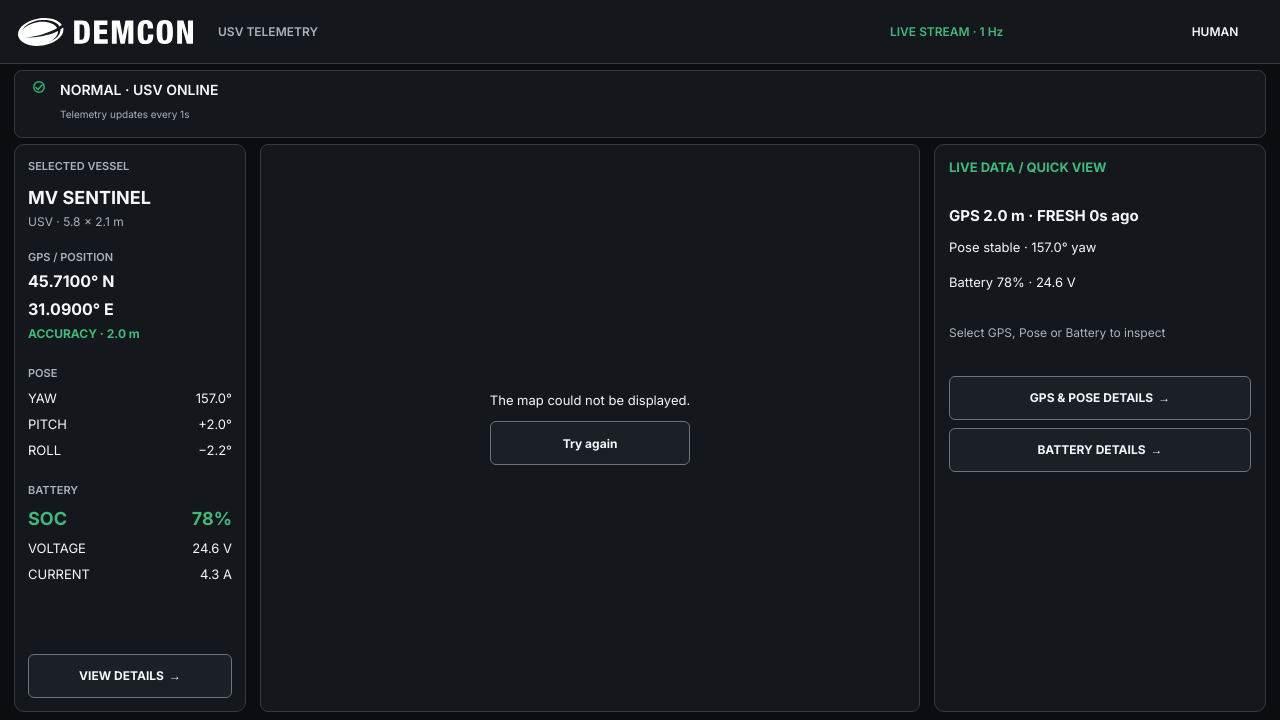
Test: USVMonitoring map failure isolation › keeps every other panel and the live telemetry working when the map fails
This screenshot has width=1280, height=720.
Check: the message "The map could not be displayed. Try again" is shown, box [490, 392, 690, 465]
Check: the heading "NORMAL · USV ONLINE" is shown, box [60, 81, 218, 98]
Select "BATTERY CRITICAL" in the dropdown named "Telemetry mode" at (1005, 32), box [890, 23, 1120, 40]
Wait 1000 ms
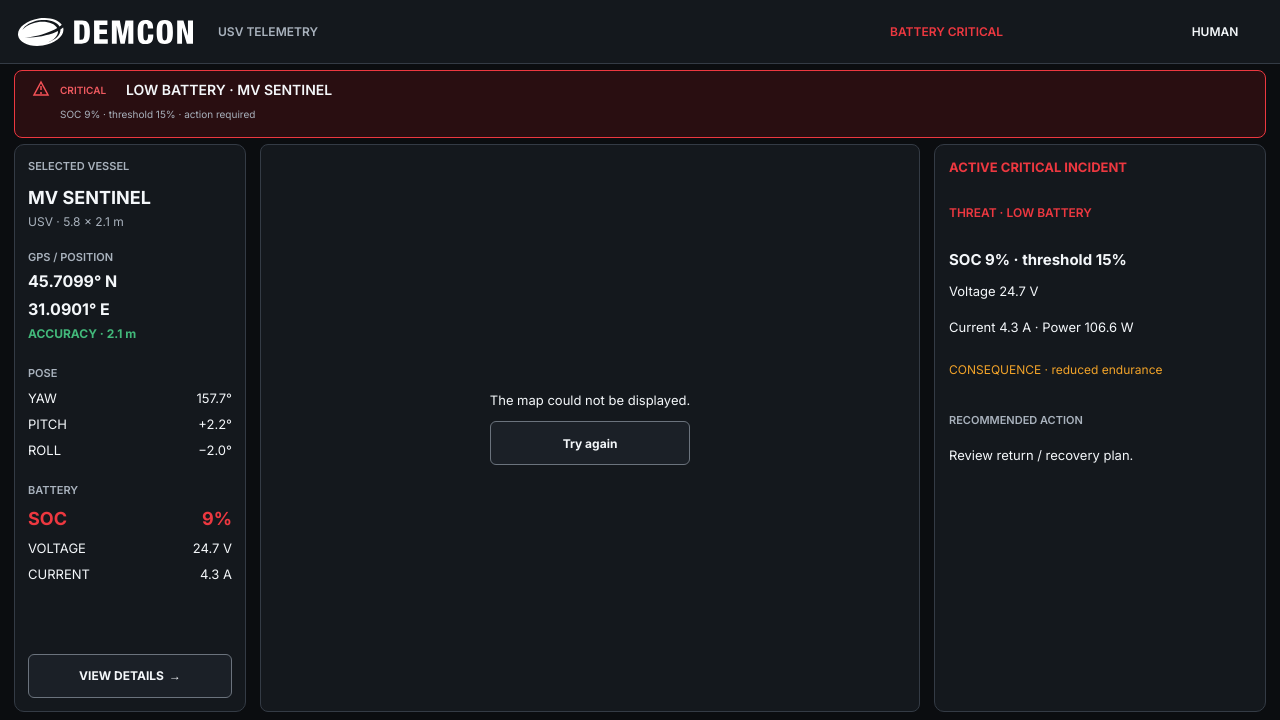
Check: the message "The map could not be displayed. Try again" is shown, box [490, 392, 690, 465]
Check: the heading "LOW BATTERY · MV SENTINEL" is shown, box [126, 81, 332, 98]
